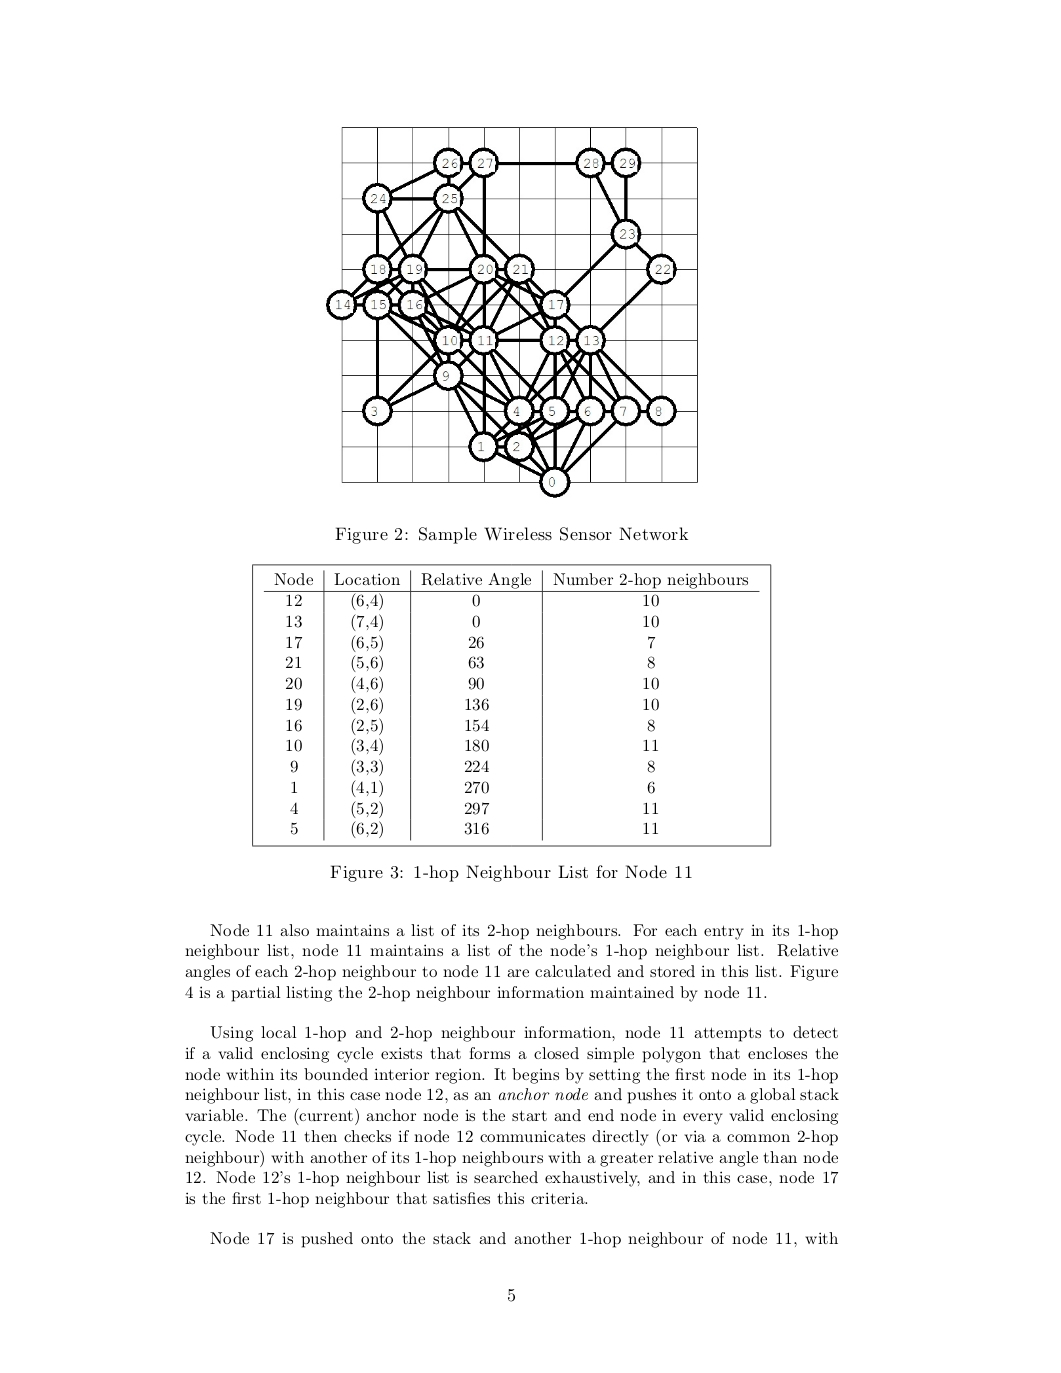Table: (252, 562, 771, 847)
figure: (327, 125, 697, 498)
